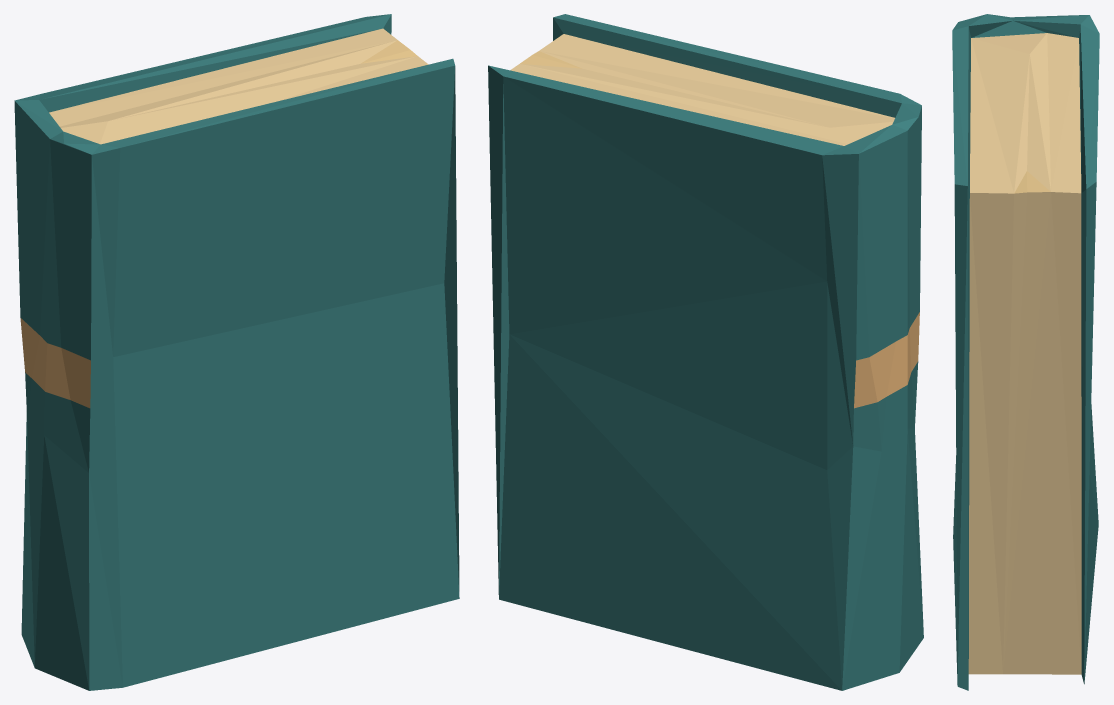
The model's file is SFV_Book_006.fbx.
The picture shows the model from 3 angles, left to right: view 1: azimuth 30°, elevation 25°; view 2: azimuth 150°, elevation 25°; view 3: azimuth 270°, elevation 25°; orthographic projection. The views are drawn at different scales.
Parts seen in each view (by area): view 1: SFV_Book_006; view 2: SFV_Book_006; view 3: SFV_Book_006.
Part boxes in pixels (left/top/right/bottom): SFV_Book_006: left=14, top=14, right=459, bottom=690; SFV_Book_006: left=488, top=14, right=923, bottom=690; SFV_Book_006: left=952, top=14, right=1099, bottom=690.
Size of the model in its own units: 18.29 by 24.61 by 6.5.
